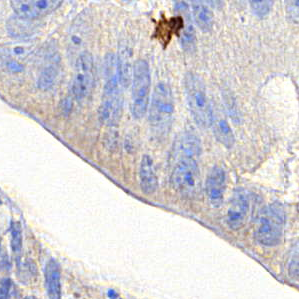Lymphocyte: (150, 12, 184, 49)
